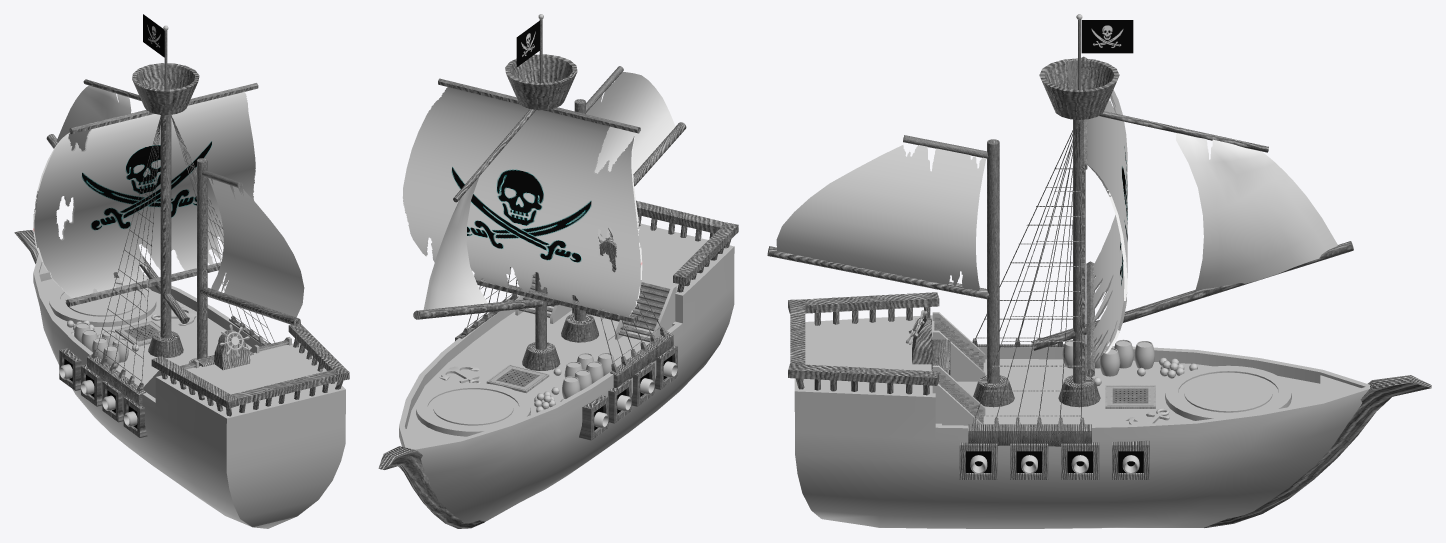
Rendered from Ship_Human.FBX.
The picture shows the model from 3 angles, left to right: view 1: azimuth 30°, elevation 25°; view 2: azimuth 150°, elevation 25°; view 3: azimuth 270°, elevation 25°; orthographic projection. The views are drawn at different scales.
Visible parts, largest first — view 1: Ship01; view 2: Ship01; view 3: Ship01.
Part boxes in pixels (bbox=[...]): Ship01: bbox=[14, 14, 349, 528]; Ship01: bbox=[378, 14, 738, 528]; Ship01: bbox=[767, 14, 1431, 528].
Size of the model in its own units: 2389 by 5236 by 4472.
